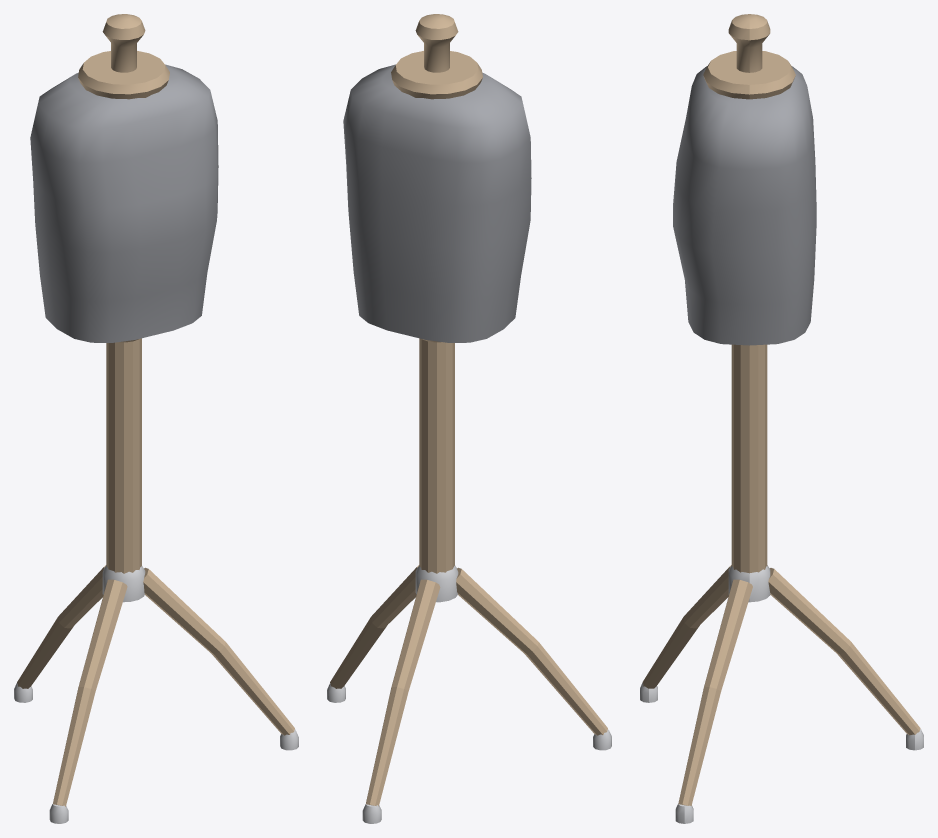
The model's file is SM_Retail_25272_BustForm.fbx.
3 renders of one model, left to right at view 1: azimuth 30°, elevation 25°; view 2: azimuth 150°, elevation 25°; view 3: azimuth 270°, elevation 25°, orthographic.
Parts seen in each view (by area): view 1: SM_Retail_25272_BustForm; view 2: SM_Retail_25272_BustForm; view 3: SM_Retail_25272_BustForm.
Part boxes in pixels (x1,y1,x2,y2): SM_Retail_25272_BustForm: (14,14,298,823); SM_Retail_25272_BustForm: (327,14,611,823); SM_Retail_25272_BustForm: (640,14,923,823).
Bounding box in the file's own units: 51.33 × 47.71 × 137.
